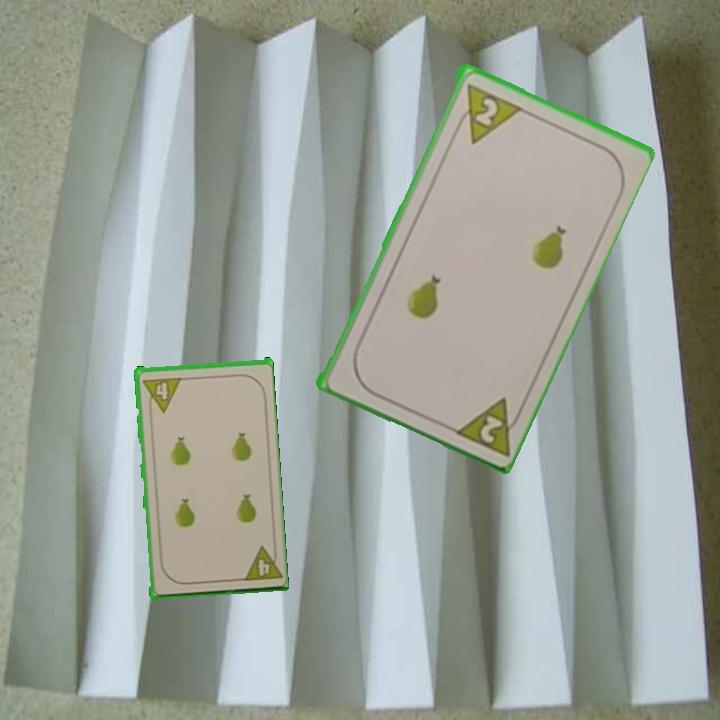2p: (448, 392, 527, 459), (451, 79, 522, 146)
4p: (238, 541, 283, 584), (138, 373, 183, 415)
